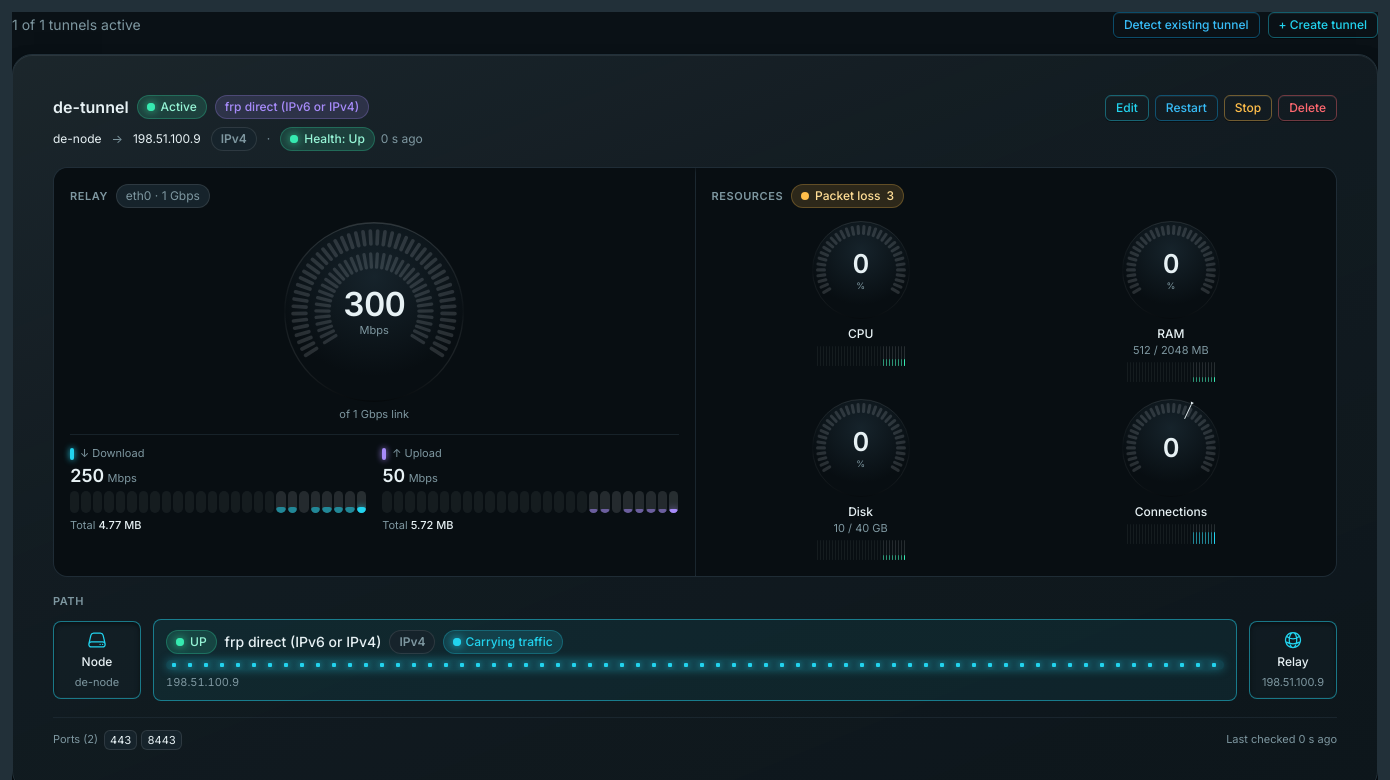
Scenario: tunnel card › keeps the teardown wording for a managed tunnel
The width and height of the screenshot is (1390, 780).
Expected: the text "de-tunnel" is shown, [53, 95, 129, 119]
Click the button "Delete". click: (1308, 108)
box: [1278, 95, 1337, 121]
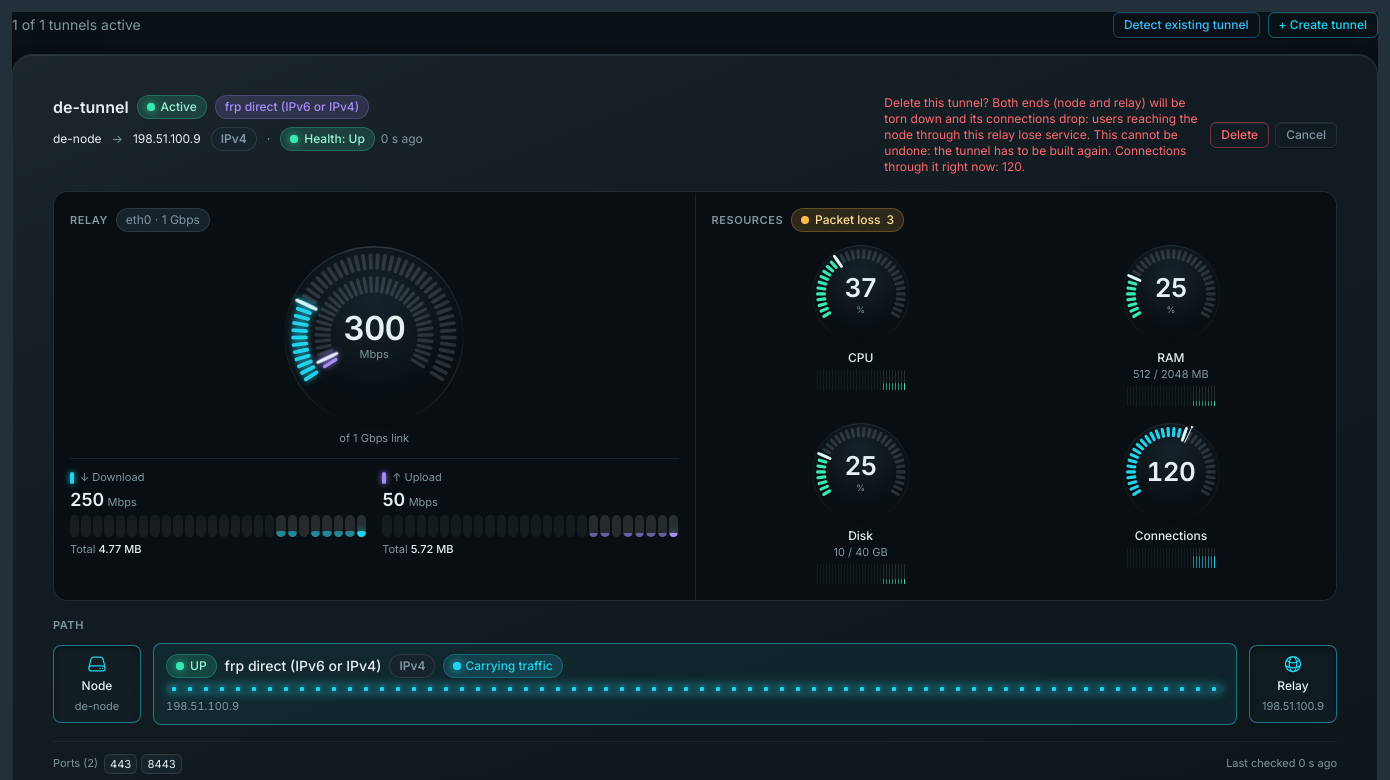
Expected: the text "Both ends (node and relay) will be torn down" is shown, [884, 95, 1198, 174]
